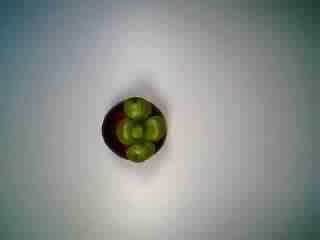mangosteen: (97, 93, 171, 163)
